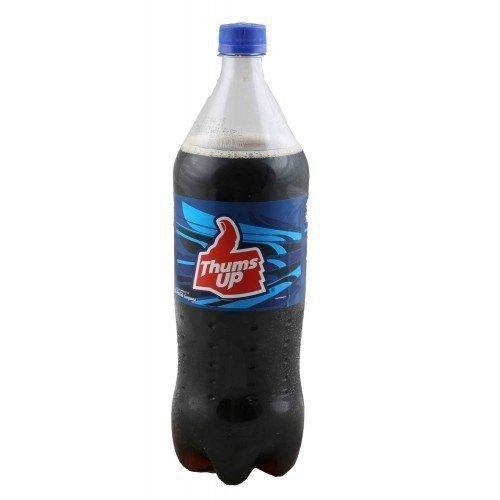bottle-plastic: (172, 20, 312, 490)
